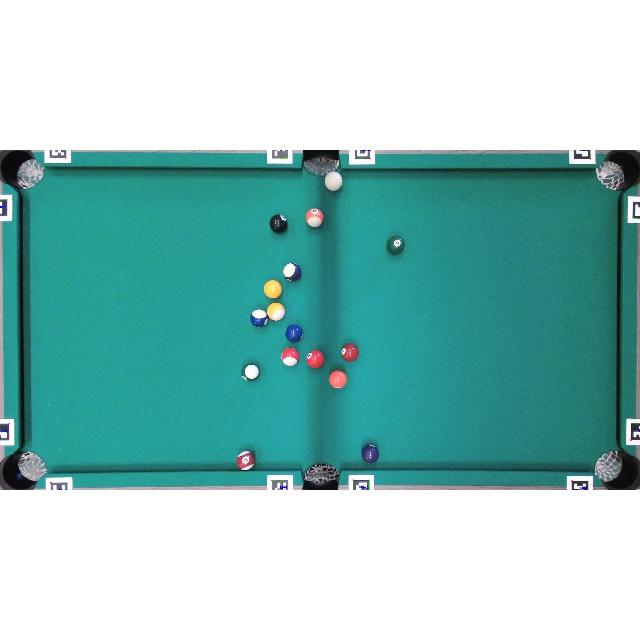cue ball: (324, 171, 342, 191)
other: (237, 450, 256, 471), (305, 208, 324, 228), (240, 363, 260, 382), (361, 443, 379, 464), (306, 349, 325, 368), (267, 302, 285, 321), (250, 309, 268, 328), (329, 370, 347, 389), (285, 324, 303, 342), (264, 280, 282, 298), (284, 263, 302, 281), (281, 348, 299, 366), (387, 236, 405, 254), (270, 214, 287, 233), (341, 343, 358, 362)
